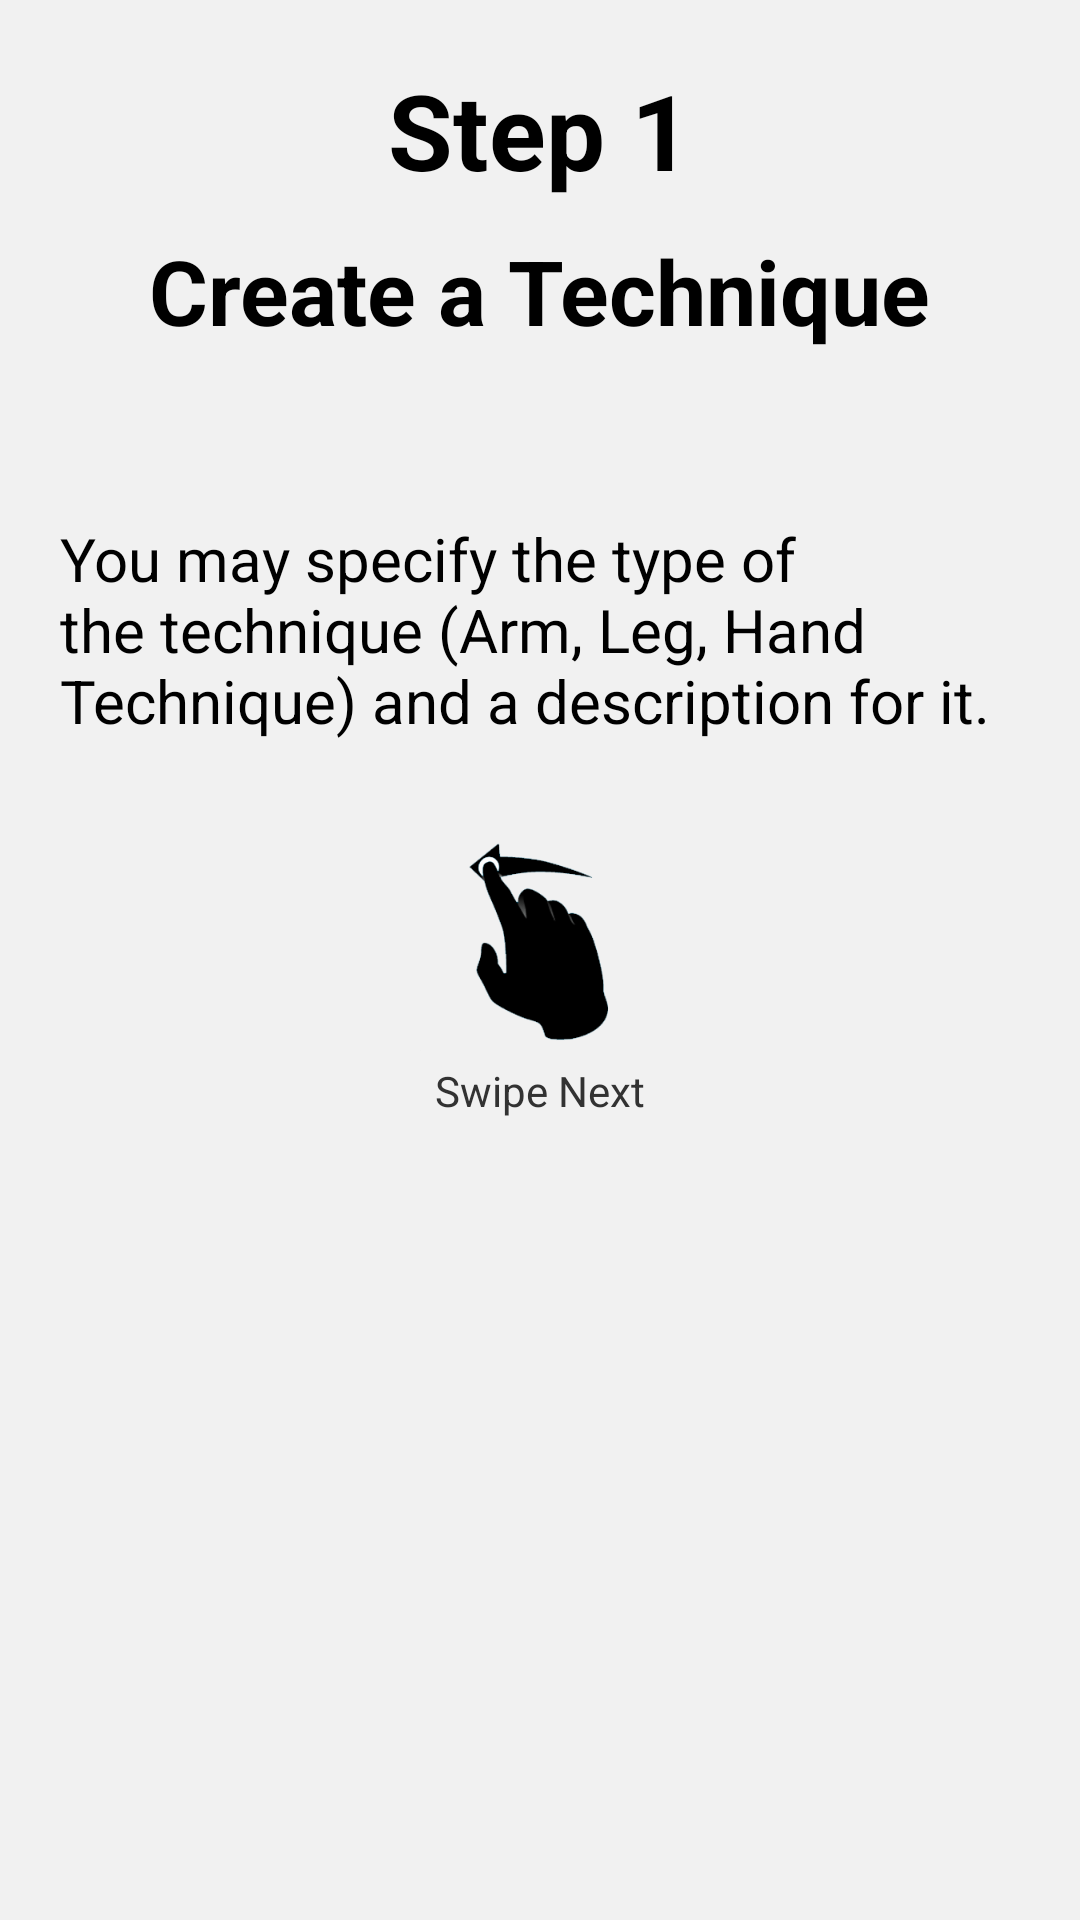

Locate icon controls on the screen. Image size 1080px x 1920px, boxes as [x1,y1,x2,y2].
swipe left: [469,844,608,1040]
